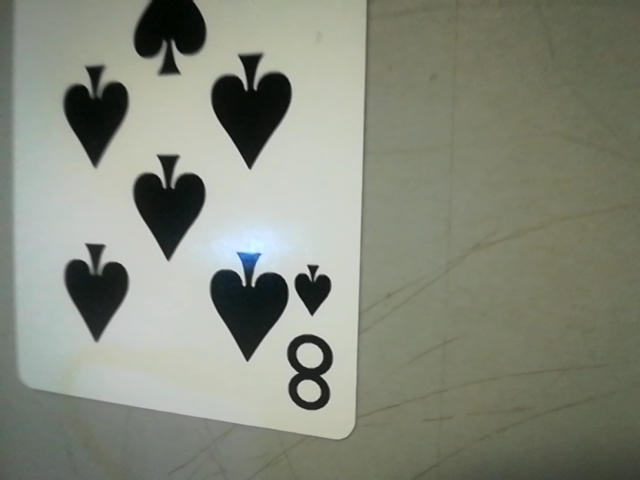ht 8: (279, 253, 350, 428)
